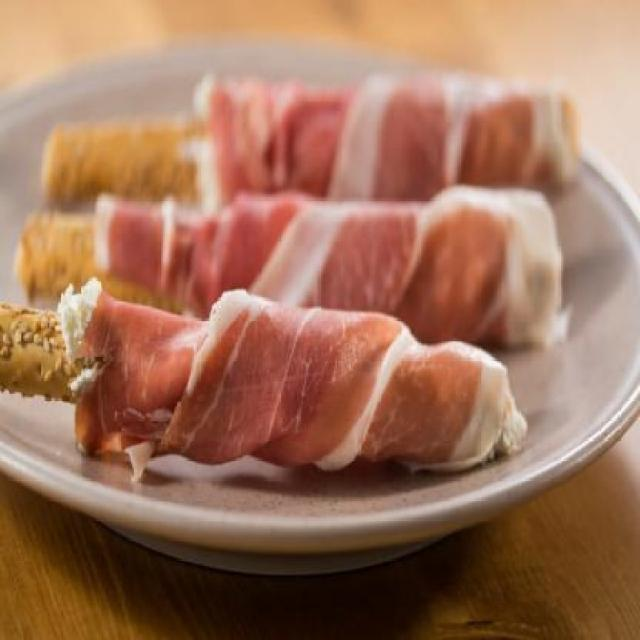Grissini: (13, 70, 589, 476)
